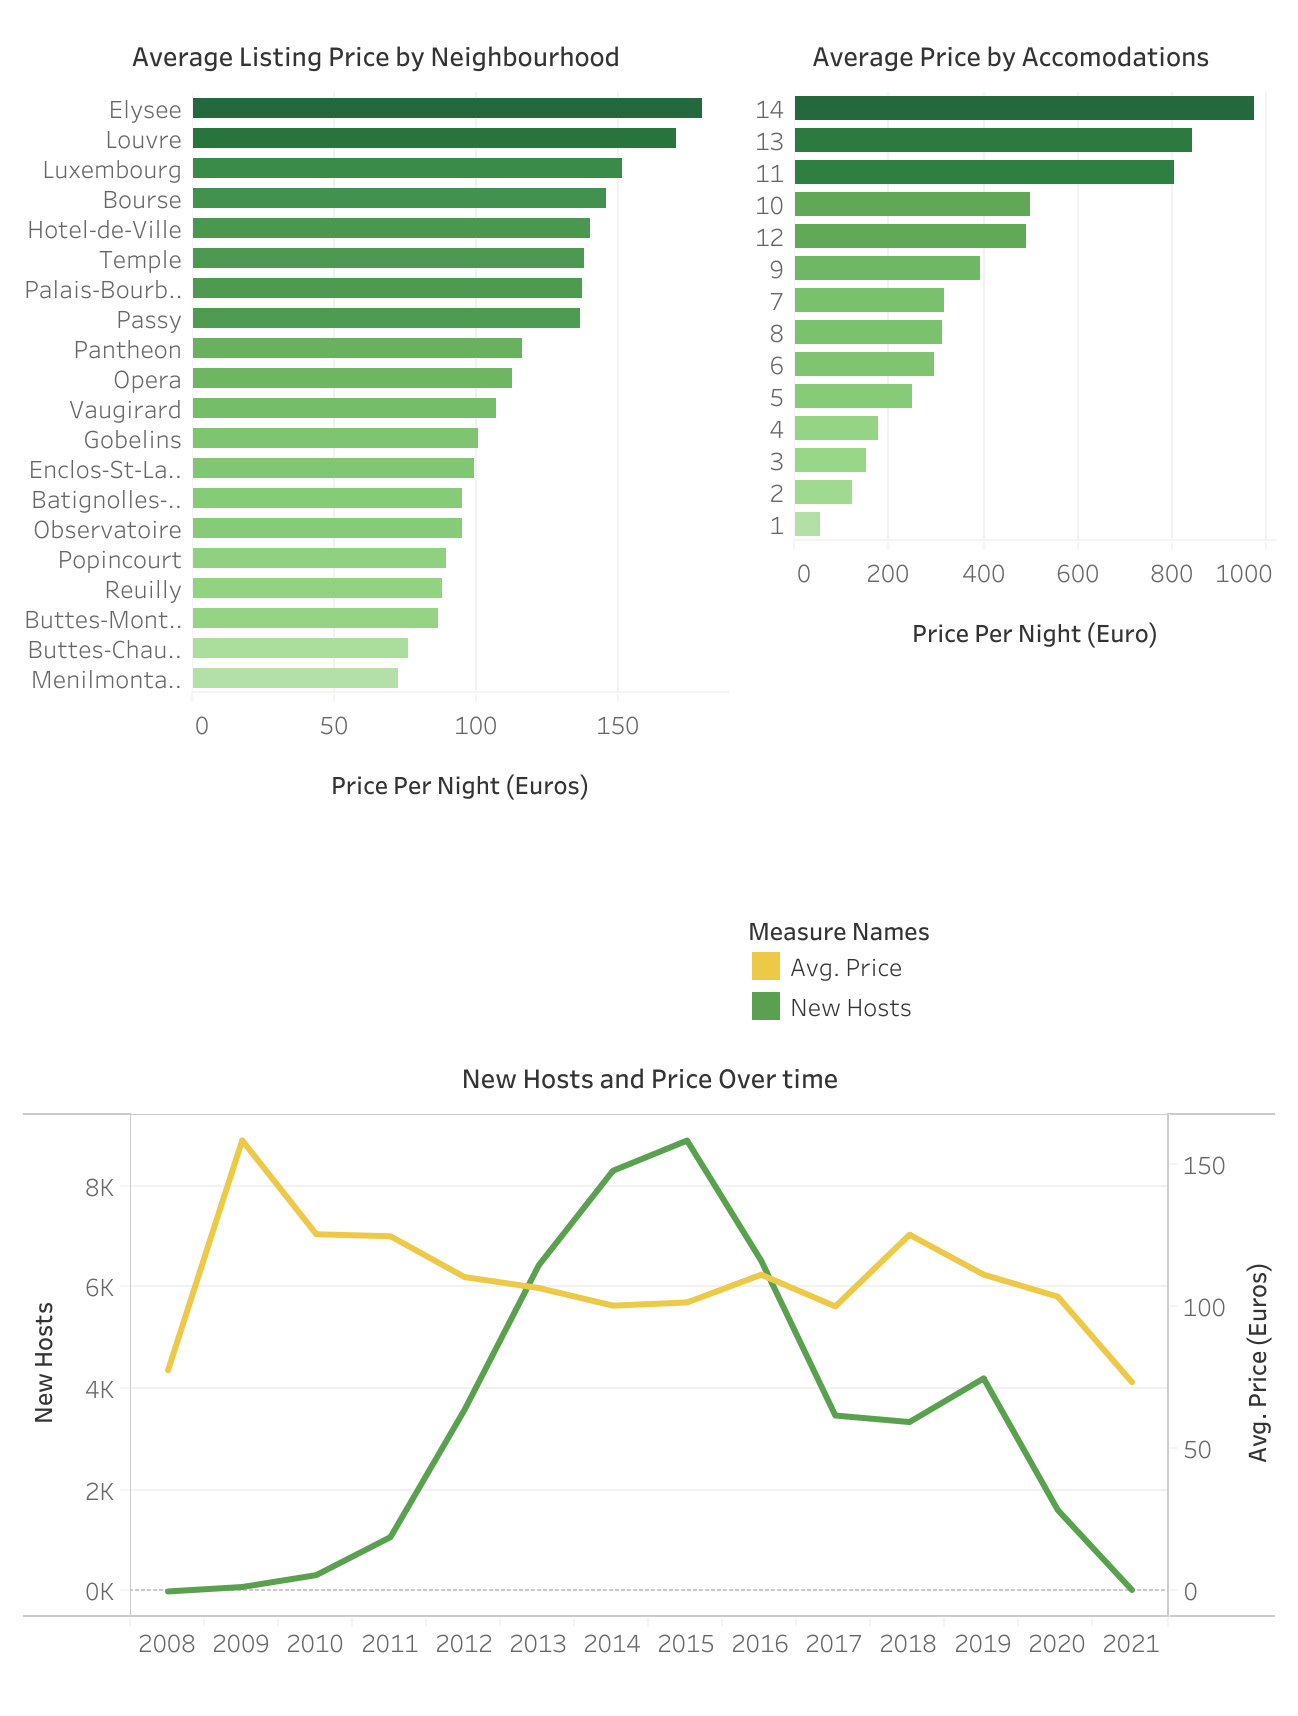

Layout of this report page (visuals, bound fields, positions):
{"tool":"tableau","page":{"name":"Dashboard 1","canvas":[650,860],"ordinal":0},"visuals":[{"type":"worksheet","title":"1","mark":"Automatic","rows":["neighbourhood"],"cols":["price"],"box":[8,10.3,361,509.1]},{"type":"worksheet","title":"2","mark":"Automatic","rows":["accommodates"],"cols":["price"],"box":[369,10.3,273,439.6]},{"type":"legend","title":"5","param":"[federated.1udcu6s13jaaj9109eec51pqn5g4].[:Measure Names]","box":[369,449.9,273,69.4]},{"type":"worksheet","title":"5","mark":"Automatic","rows":["neighbourhood","price"],"cols":["host_since"],"box":[8,519.3,634,330.4]}]}

Visuals, with their boxes in screenshot pixels (x1, y1, x2, y2), scaled from the page's 650x860 canvas onto the 1298x1716 screenshot:
"1" worksheet: {"left": 16, "top": 21, "right": 737, "bottom": 1036}
"2" worksheet: {"left": 737, "top": 21, "right": 1282, "bottom": 898}
"5" legend: {"left": 737, "top": 898, "right": 1282, "bottom": 1036}
"5" worksheet: {"left": 16, "top": 1036, "right": 1282, "bottom": 1695}
